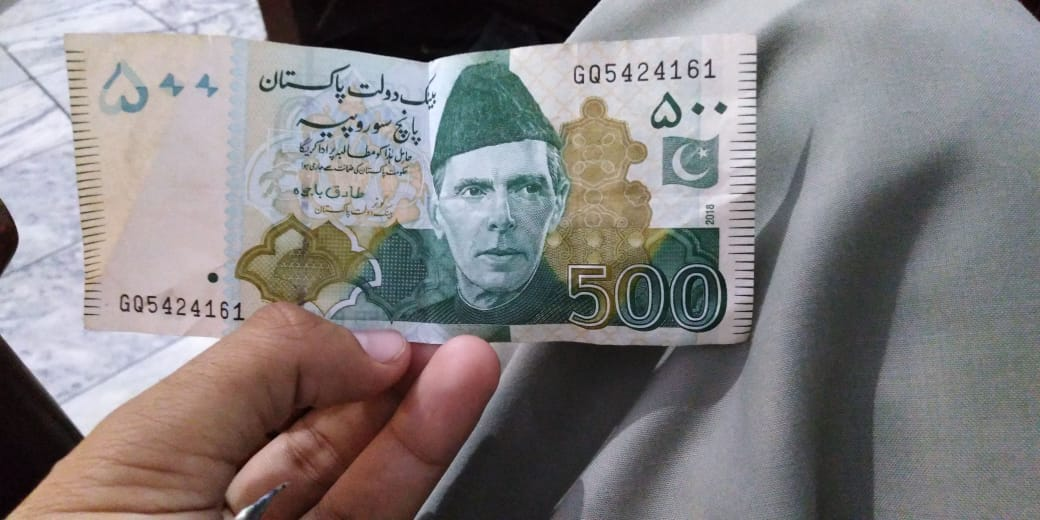500 rupee: (51, 22, 767, 346)
